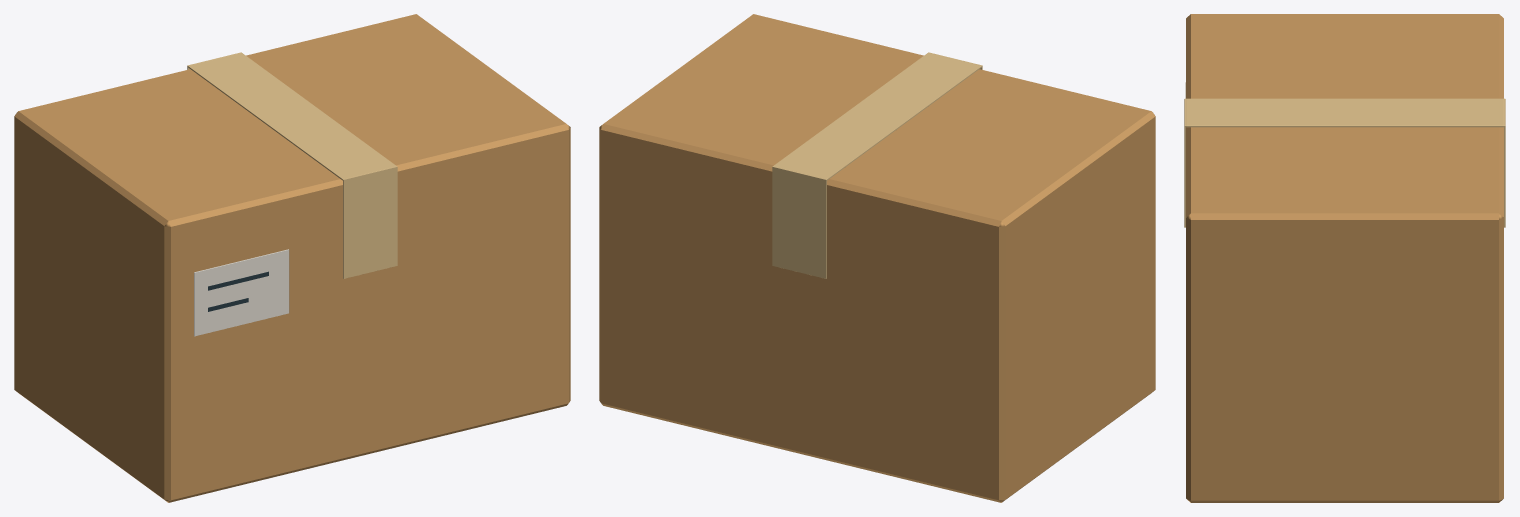
File: small-unit.glb
The picture shows the model from 3 angles, left to right: view 1: azimuth 30°, elevation 25°; view 2: azimuth 150°, elevation 25°; view 3: azimuth 270°, elevation 25°; orthographic projection. The views are drawn at different scales.
Parts seen in each view (by area): view 1: small-unit; view 2: small-unit; view 3: small-unit.
Part boxes in pixels (x1,y1,x2,y2): small-unit: (14, 14, 570, 502); small-unit: (599, 14, 1155, 502); small-unit: (1184, 14, 1505, 502).
Bounding box in the file's own units: 0.06 × 0.04 × 0.04.
